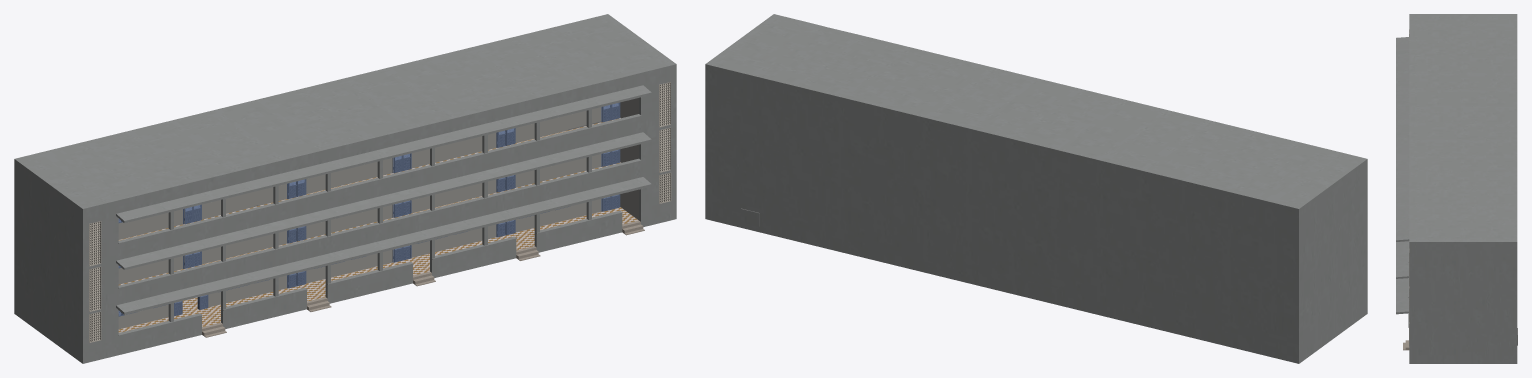
Rendered from prison-model.glb.
The picture shows the model from 3 angles, left to right: view 1: azimuth 30°, elevation 25°; view 2: azimuth 150°, elevation 25°; view 3: azimuth 270°, elevation 25°; orthographic projection. The views are drawn at different scales.
Visible parts, largest first — view 1: Gebaeude, Fenster4, Fenster3; view 2: Gebaeude; view 3: Gebaeude.
Part boxes in pixels (x1,y1,x2,y2): Gebaeude: (14, 14, 676, 363); Fenster4: (89, 221, 101, 266); Fenster3: (89, 266, 101, 311); Gebaeude: (705, 14, 1367, 363); Gebaeude: (1396, 14, 1517, 363).
Bounding box in the file's own units: 10.09 × 2.52 × 2.27.
Materials: 7 (6 with a texture image).
